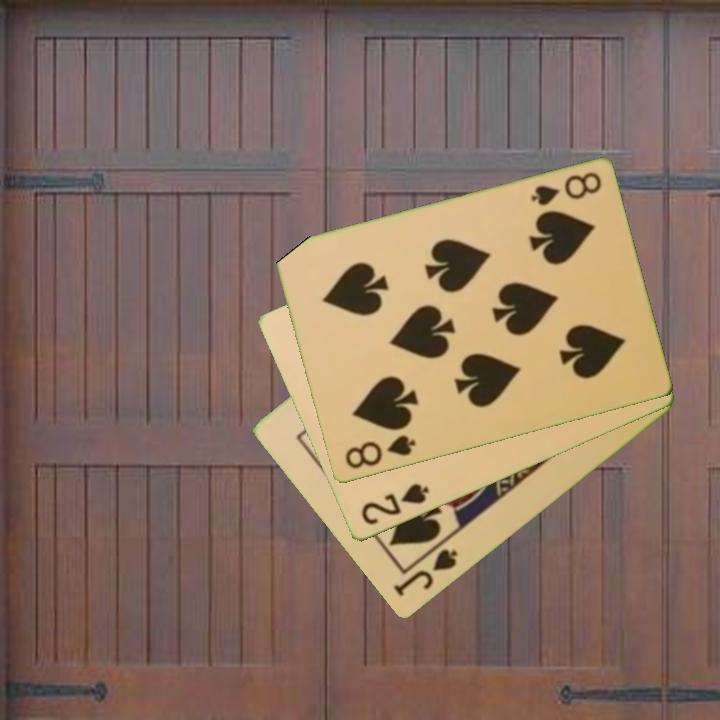2s: (357, 480, 432, 529)
8s: (527, 169, 604, 210), (341, 432, 418, 472)
Js: (389, 546, 461, 600)
